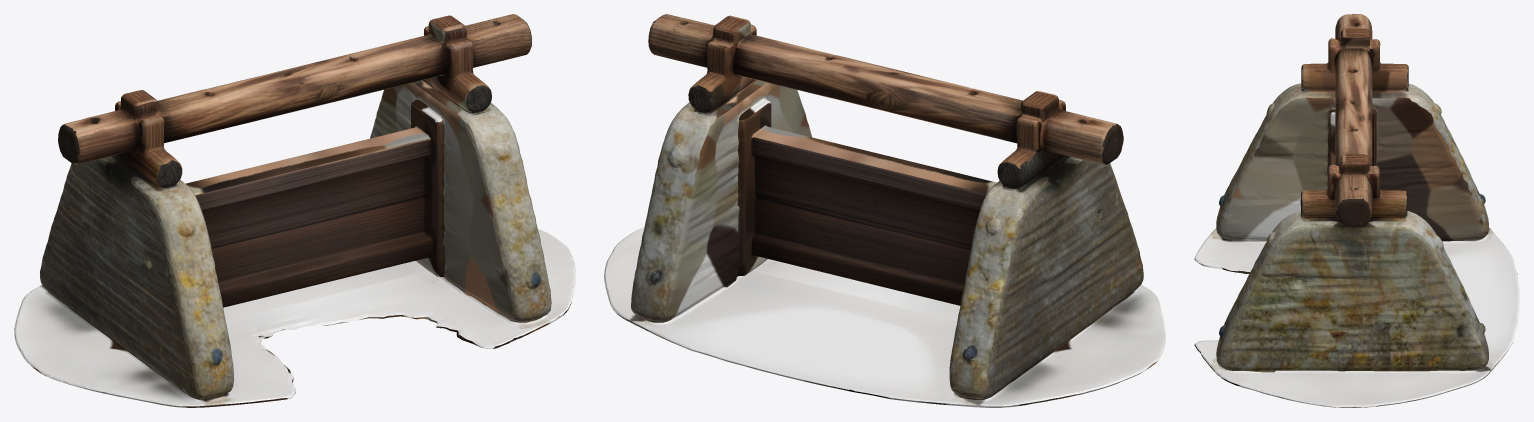
The model's file is traveler_env_coast_cakon_paddy_sluice_00001_.glb.
The picture shows the model from 3 angles, left to right: view 1: azimuth 30°, elevation 25°; view 2: azimuth 150°, elevation 25°; view 3: azimuth 270°, elevation 25°; orthographic projection. The views are drawn at different scales.
Visible parts, largest first — view 1: temp_mesh.ply; view 2: temp_mesh.ply; view 3: temp_mesh.ply.
Part boxes in pixels (<box>): temp_mesh.ply: <box>14,14,575,407</box>; temp_mesh.ply: <box>604,14,1165,407</box>; temp_mesh.ply: <box>1194,14,1519,407</box>.
Size of the model in its own units: 1.97 by 0.8966 by 1.26.
Materials: 1 (1 with a texture image).
